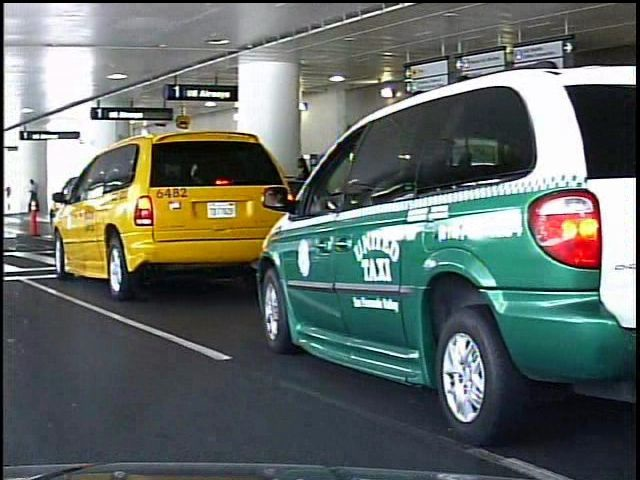person: (22, 176, 35, 201)
